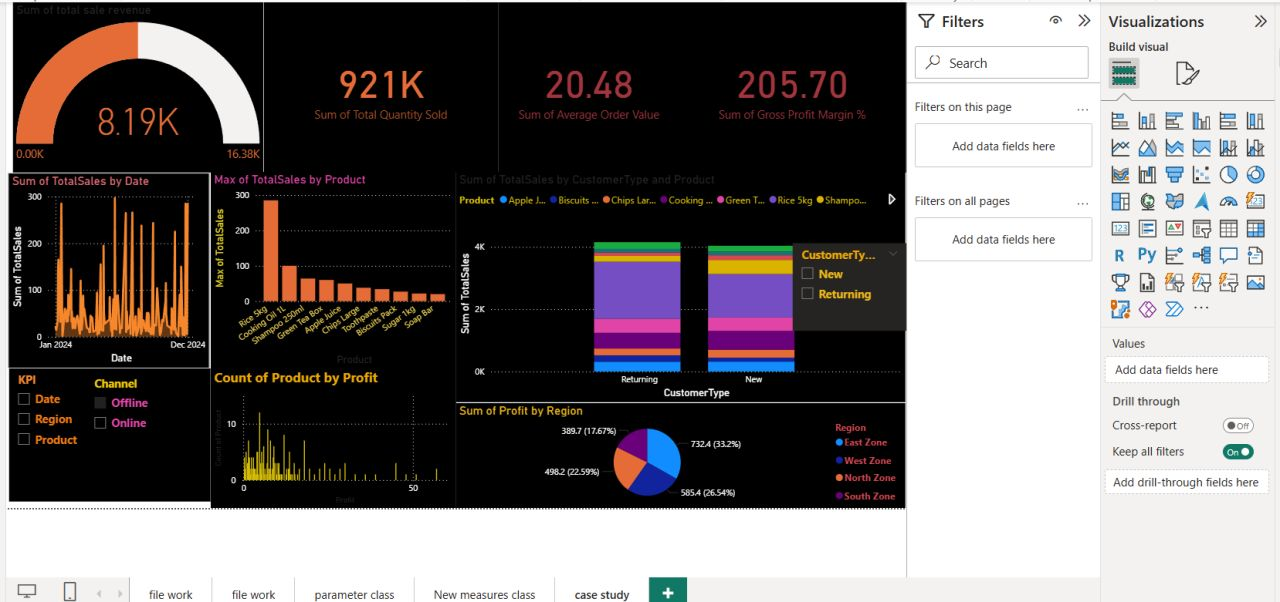

This screenshot's page, from the dashboard's own definition file:
{"tool":"powerbi","page":{"name":"case study ","canvas":[1280,720],"ordinal":4},"visuals":[{"type":"gauge","fields":{"Y":["Sum(Sheet1.total sale revenue)"]},"box":[9.7,0,356,242.2],"z":0},{"type":"card","fields":{"Values":["Sum(Sheet1.Total Quantity Sold)"]},"box":[365.7,0,333.6,242.2],"z":1000},{"type":"card","fields":{"Values":["Sum(Sheet1.Average Order Value)"]},"box":[699.3,0,257.8,242.2],"z":2000},{"type":"card","fields":{"Values":["Sum(Sheet1.Gross Profit Margin %)"]},"box":[957.1,0,322.9,242.2],"z":3000},{"type":"lineChart","fields":{"Category":["Sheet1.Date","Sheet1.Region","Sheet1.Product"],"Y":["Sum(Sheet1.TotalSales)"]},"box":[2.7,242.9,286.8,278.6],"z":4000},{"type":"slicer","fields":{"Values":["KPI.KPI"]},"box":[4.1,521.4,286.8,189.4],"z":5000},{"type":"columnChart","fields":{"Category":["Sheet1.Product"],"Y":["Max(Sheet1.TotalSales)"]},"box":[290.8,242.2,349.2,280.1],"z":6000},{"type":"slicer","fields":{"Values":["Sheet1.Channel"]},"box":[112.5,526.9,177,142.7],"z":7000},{"type":"lineStackedColumnComboChart","fields":{"Category":["Sheet1.CustomerType"],"Series":["Sheet1.Product"],"Y":["Sum(Sheet1.TotalSales)"]},"box":[639.5,241.5,639.5,328],"z":8000},{"type":"slicer","fields":{"Values":["Sheet1.CustomerType"]},"box":[1118.4,343.1,161.9,124.9],"z":9000},{"type":"clusteredColumnChart","fields":{"Category":["Sheet1.Profit"],"Y":["CountNonNull(Sheet1.Product)"]},"box":[290.9,521.4,348.5,199],"z":10000},{"type":"pieChart","fields":{"Category":["Sheet1.Region"],"Y":["Sum(Sheet1.Profit)"]},"box":[639.5,570.8,639.5,149.6],"z":11000}]}

Visuals, with their boxes on the page's 1280x720 design canvas (x1, y1, x2, y2). These are canvas units, not pixel positions in the 1280x602 screenshot, which may show the page scaled, cropped or inside an application window:
gauge - Sum(Sheet1.total sale revenue): box(10, 0, 366, 242)
card - Sum(Sheet1.Total Quantity Sold): box(366, 0, 699, 242)
card - Sum(Sheet1.Average Order Value): box(699, 0, 957, 242)
card - Sum(Sheet1.Gross Profit Margin %): box(957, 0, 1280, 242)
lineChart - Sheet1.Date x Sheet1.Region: box(3, 243, 290, 522)
slicer - KPI.KPI: box(4, 521, 291, 711)
columnChart - Sheet1.Product x Max(Sheet1.TotalSales): box(291, 242, 640, 522)
slicer - Sheet1.Channel: box(112, 527, 290, 670)
lineStackedColumnComboChart - Sheet1.CustomerType x Sheet1.Product: box(640, 242, 1279, 570)
slicer - Sheet1.CustomerType: box(1118, 343, 1280, 468)
clusteredColumnChart - Sheet1.Profit x CountNonNull(Sheet1.Product): box(291, 521, 639, 720)
pieChart - Sheet1.Region x Sum(Sheet1.Profit): box(640, 571, 1279, 720)
